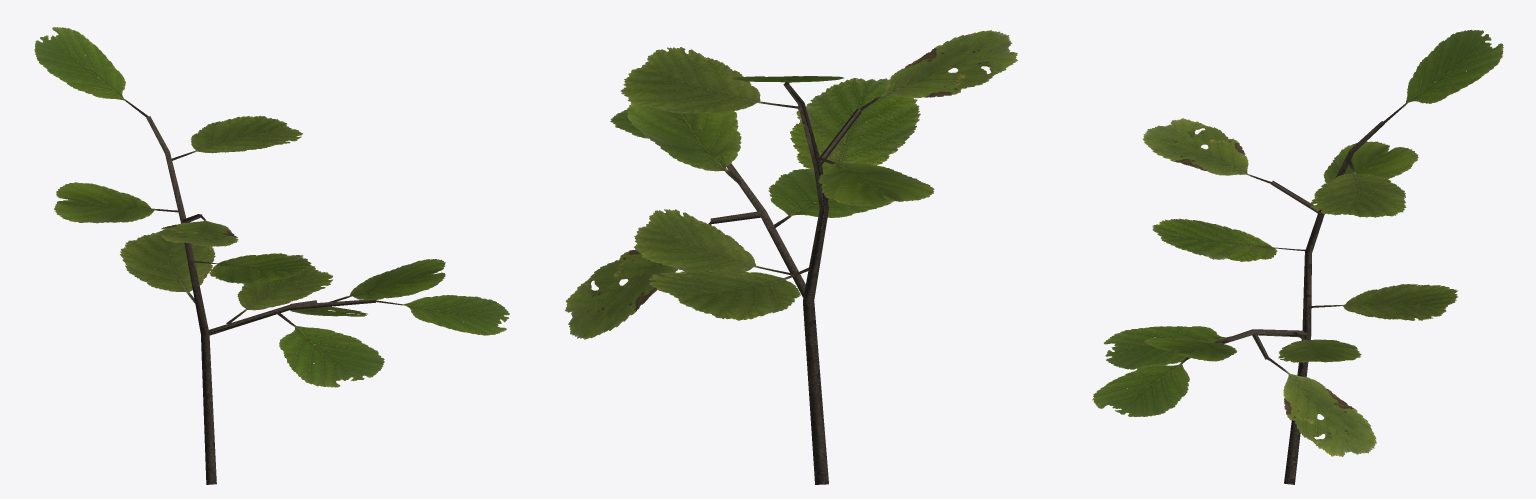
File: SM_BlackAlder_Seedling_01_PP_LOD3.gltf
The picture shows the model from 3 angles, left to right: view 1: azimuth 30°, elevation 25°; view 2: azimuth 150°, elevation 25°; view 3: azimuth 270°, elevation 25°; orthographic projection. The views are drawn at different scales.
Visible parts, largest first — view 1: SM_BlackAlder_Seedling_01_PP; view 2: SM_BlackAlder_Seedling_01_PP; view 3: SM_BlackAlder_Seedling_01_PP.
Boxes of the visible parts, x1,y1,x2,y2 form: SM_BlackAlder_Seedling_01_PP: (34, 27, 509, 484); SM_BlackAlder_Seedling_01_PP: (565, 30, 1017, 484); SM_BlackAlder_Seedling_01_PP: (1092, 29, 1503, 484).
Size of the model in its own units: 0.4182 by 0.4145 by 0.4107.
1 material, 1 textured.
